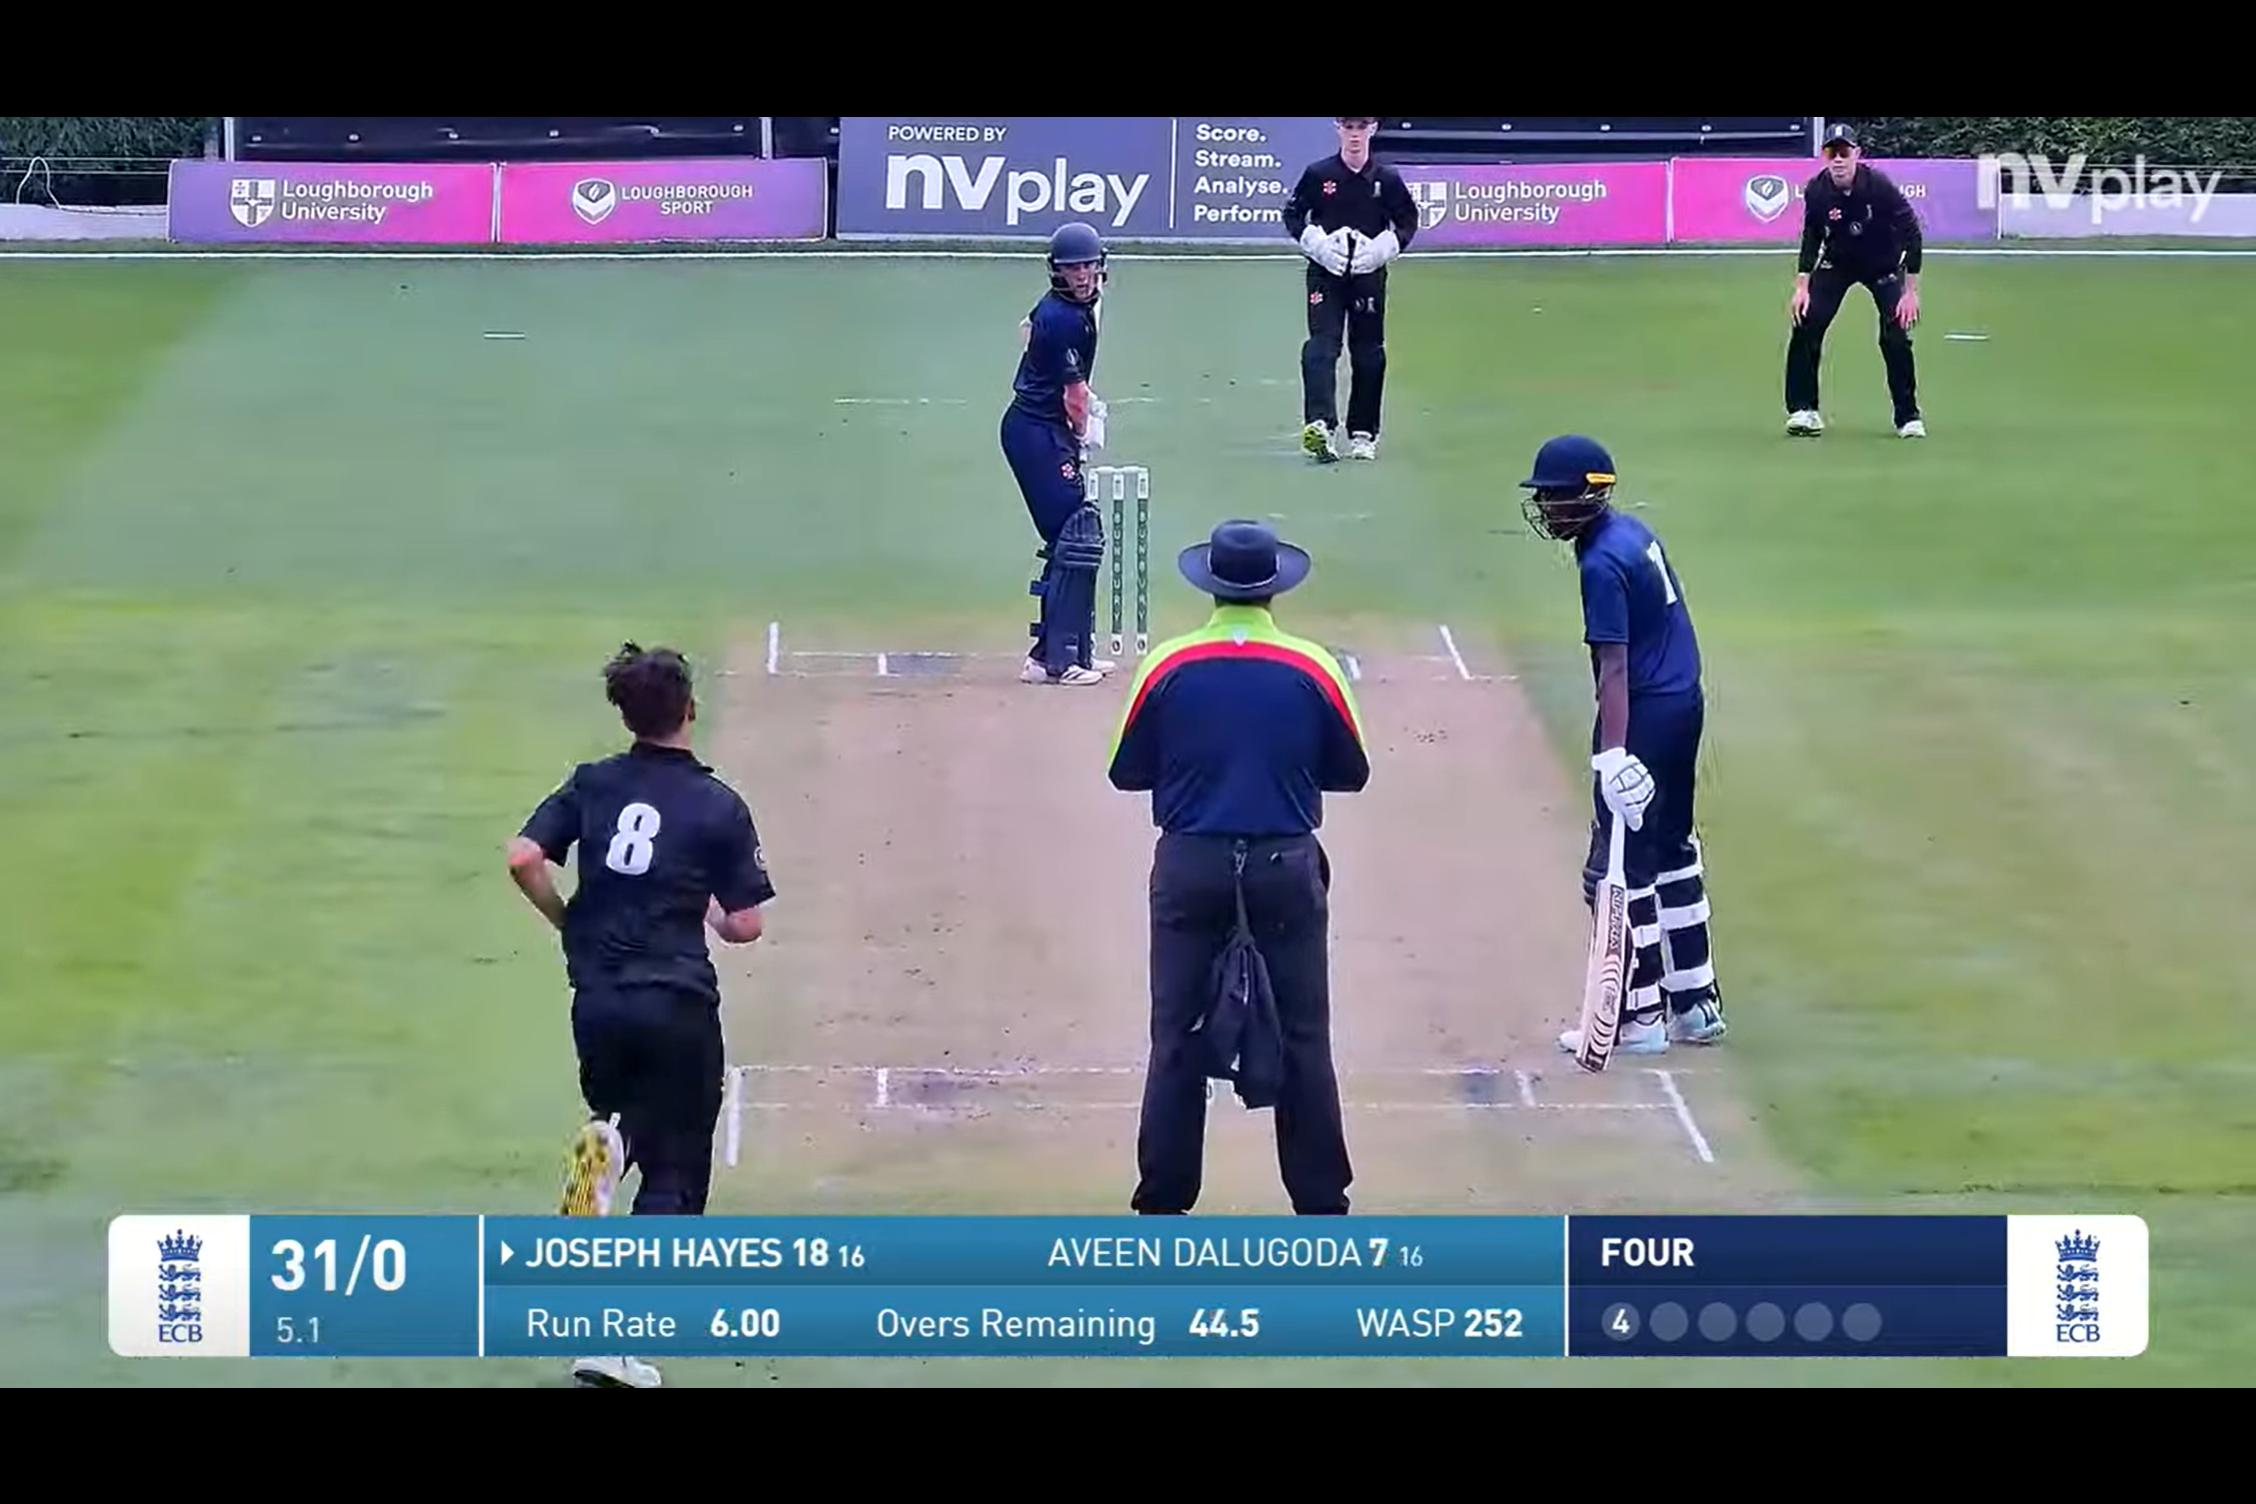batsman: (965, 203, 1125, 687)
bowler running in: (487, 623, 797, 1205)
non striker: (1496, 431, 1789, 1081)
wicket keeper: (1259, 117, 1428, 468)
